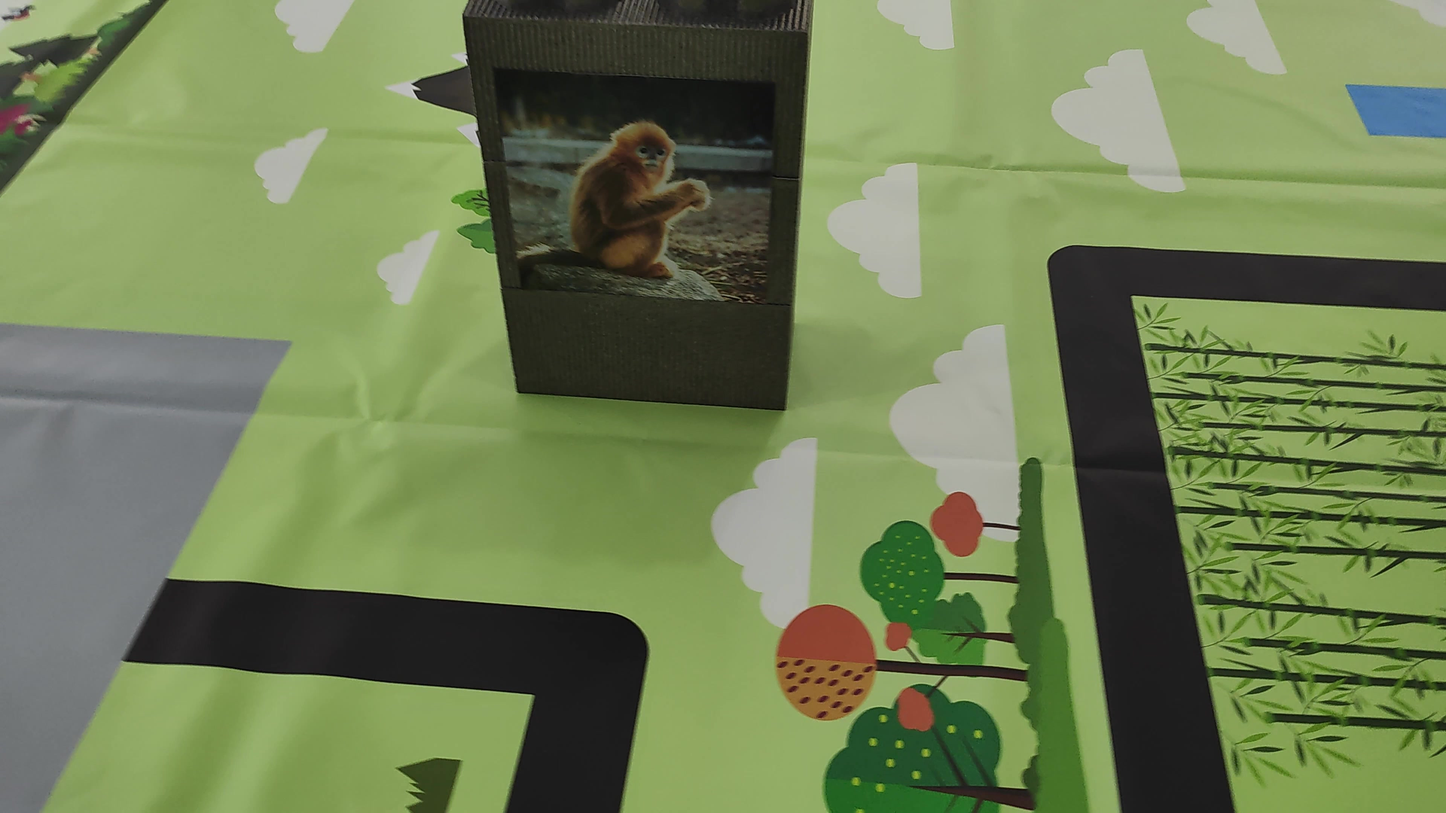monkey: (482, 77, 769, 293)
